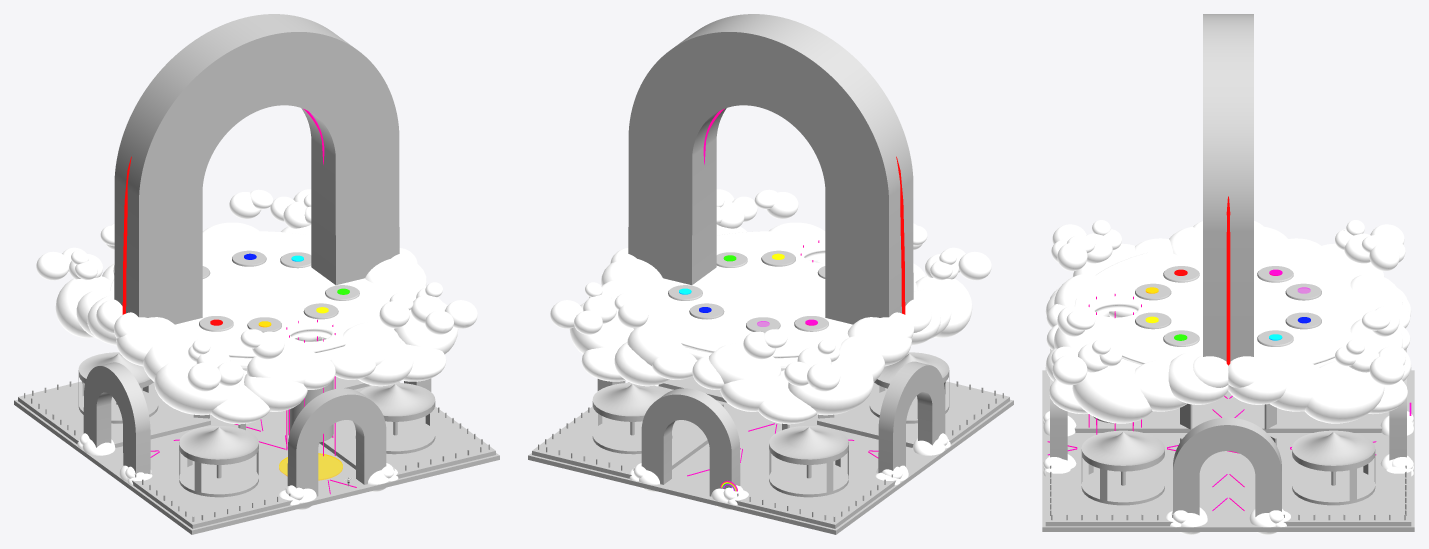
Rendered from rainbow-2.glb.
3 renders of one model, left to right at view 1: azimuth 30°, elevation 25°; view 2: azimuth 150°, elevation 25°; view 3: azimuth 270°, elevation 25°, orthographic. The views are drawn at different scales.
Parts seen in each view (by area): view 1: newRainbow.002, Sphere.013, Plane.007, GamePlatform, Circle.009, newRainbow.001, newRainbow, Cylinder.001, Sphere.002, Sphere.003, Circle.001, Circle.045 (+1 smaller); view 2: newRainbow.002, Sphere.013, Plane.007, GamePlatform, Circle.009, newRainbow.001, newRainbow, Cylinder.001, Sphere.002, Sphere.003, BezierCircle.002; view 3: Sphere.013, Plane.007, GamePlatform, newRainbow.002, Circle.009, newRainbow, Cylinder.001, newRainbow.001, Sphere.002, Sphere.003, BezierCircle.002, Cube.084 (+1 smaller).
Part boxes in pixels (bbox=[...]): newRainbow.002: bbox=[114, 14, 399, 324]; Sphere.013: bbox=[36, 189, 477, 424]; Plane.007: bbox=[14, 368, 499, 534]; GamePlatform: bbox=[110, 231, 398, 368]; Circle.009: bbox=[78, 337, 435, 497]; newRainbow.001: bbox=[287, 388, 386, 496]; newRainbow: bbox=[83, 362, 431, 474]; Cylinder.001: bbox=[199, 250, 359, 332]; Sphere.002: bbox=[279, 463, 398, 509]; Sphere.003: bbox=[77, 384, 434, 485]; Circle.001: bbox=[279, 453, 342, 480]; Circle.045: bbox=[288, 379, 333, 442]; newRainbow.002: bbox=[628, 14, 913, 324]; Sphere.013: bbox=[550, 189, 991, 424]; Plane.007: bbox=[528, 368, 1013, 534]; GamePlatform: bbox=[629, 231, 917, 368]; Circle.009: bbox=[592, 352, 949, 497]; newRainbow.001: bbox=[641, 388, 740, 496]; newRainbow: bbox=[597, 361, 945, 473]; Cylinder.001: bbox=[668, 250, 828, 332]; Sphere.002: bbox=[629, 463, 748, 509]; Sphere.003: bbox=[593, 384, 950, 485]; BezierCircle.002: bbox=[896, 156, 905, 314]; Sphere.013: bbox=[1045, 220, 1411, 423]; Plane.007: bbox=[1042, 367, 1414, 531]; GamePlatform: bbox=[1074, 252, 1382, 367]; newRainbow.002: bbox=[1203, 14, 1253, 361]; Circle.009: bbox=[1081, 430, 1375, 505]; newRainbow: bbox=[1173, 417, 1281, 516]; Cylinder.001: bbox=[1135, 266, 1321, 346]; newRainbow.001: bbox=[1050, 348, 1406, 460]; Sphere.002: bbox=[1043, 411, 1413, 476]; Sphere.003: bbox=[1166, 507, 1290, 534]; BezierCircle.002: bbox=[1226, 196, 1230, 365]; Cube.084: bbox=[1180, 403, 1276, 445].
Size of the model in its own units: 64 by 82.18 by 64.
Materials: 25 (1 with a texture image).
